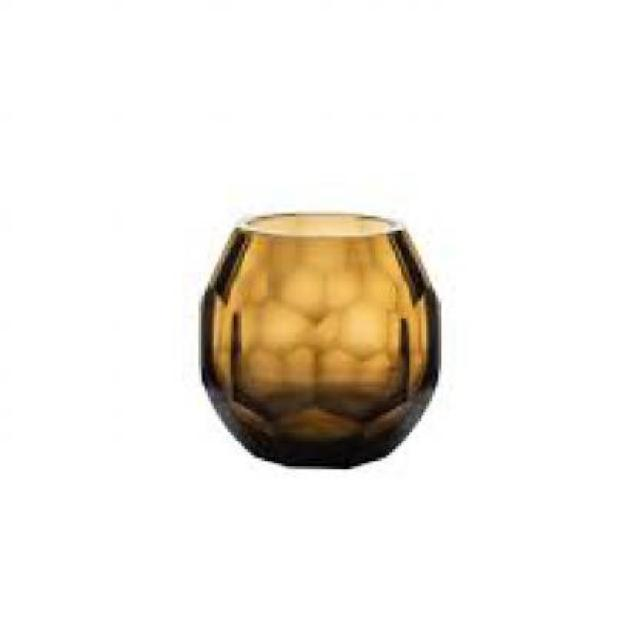kaca: (197, 211, 438, 469)
